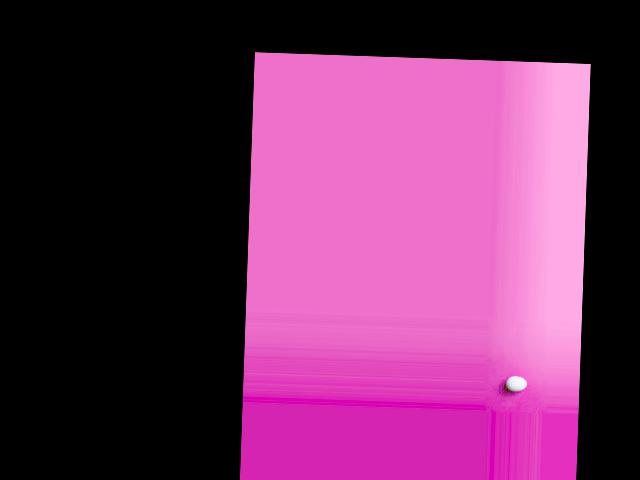egg: (505, 375, 527, 391)
